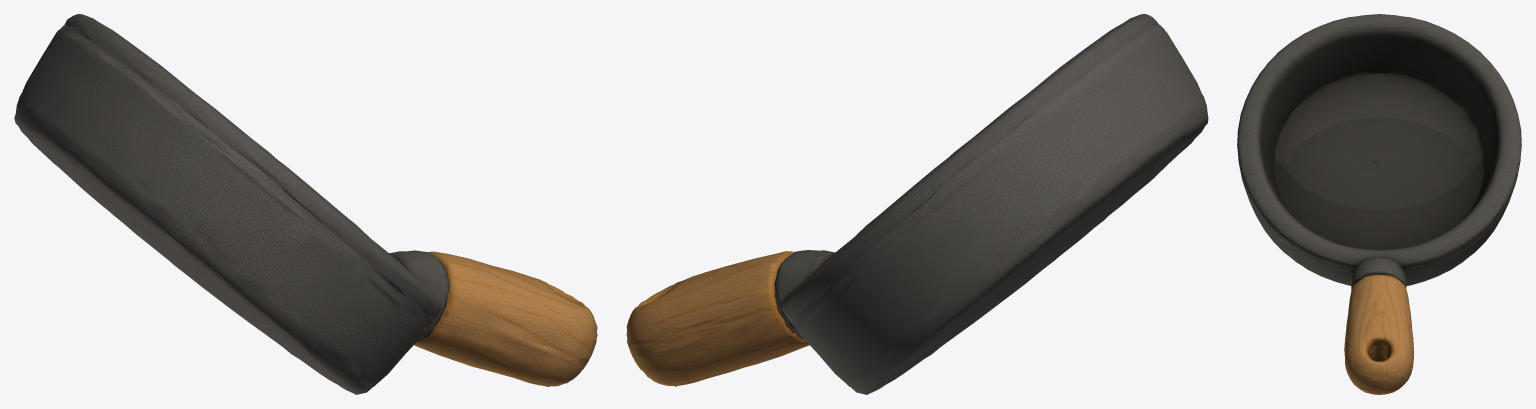
The model's file is pan_mem.fbx.
3 views of the same model, side by side, from view 1: azimuth 30°, elevation 25°; view 2: azimuth 150°, elevation 25°; view 3: azimuth 270°, elevation 25° (orthographic). The views are drawn at different scales.
Visible parts, largest first — view 1: tripo_node_88d39e4c; view 2: tripo_node_88d39e4c; view 3: tripo_node_88d39e4c.
Part boxes in pixels (x1,y1,x2,y2): tripo_node_88d39e4c: (14,14,597,394); tripo_node_88d39e4c: (626,14,1208,394); tripo_node_88d39e4c: (1237,14,1521,394).
Size of the model in its own units: 0.998 by 0.7949 by 0.7988.
